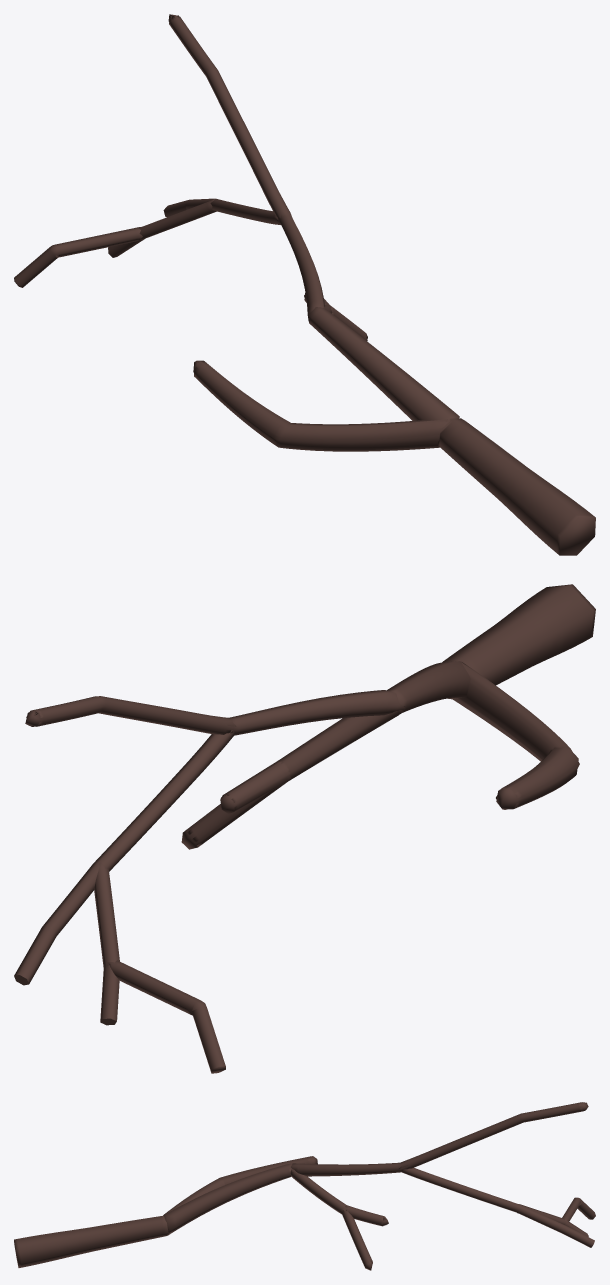
File: Branch 2.fbx
3 renders of one model, top to bottom at view 1: azimuth 30°, elevation 25°; view 2: azimuth 150°, elevation 25°; view 3: azimuth 270°, elevation 25°, orthographic. The views are drawn at different scales.
Parts seen in each view (by area): view 1: Branch 2; view 2: Branch 2; view 3: Branch 2.
Boxes of the visible parts, left/top/right/bottom form: Branch 2: left=14, top=14, right=595, bottom=555; Branch 2: left=14, top=584, right=595, bottom=1073; Branch 2: left=14, top=1102, right=595, bottom=1270.
Bounding box in the file's own units: 1.13 × 1.2 × 3.79.
